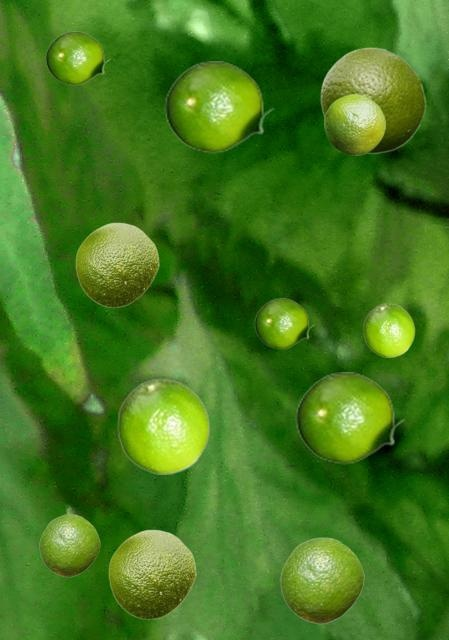calamansi: (320, 46, 425, 153), (164, 61, 274, 152), (295, 372, 405, 463), (117, 378, 209, 473), (108, 529, 195, 619), (280, 537, 363, 623), (75, 222, 158, 307), (39, 514, 99, 576), (324, 94, 384, 154), (45, 31, 110, 84), (254, 298, 314, 348), (363, 303, 414, 356)
